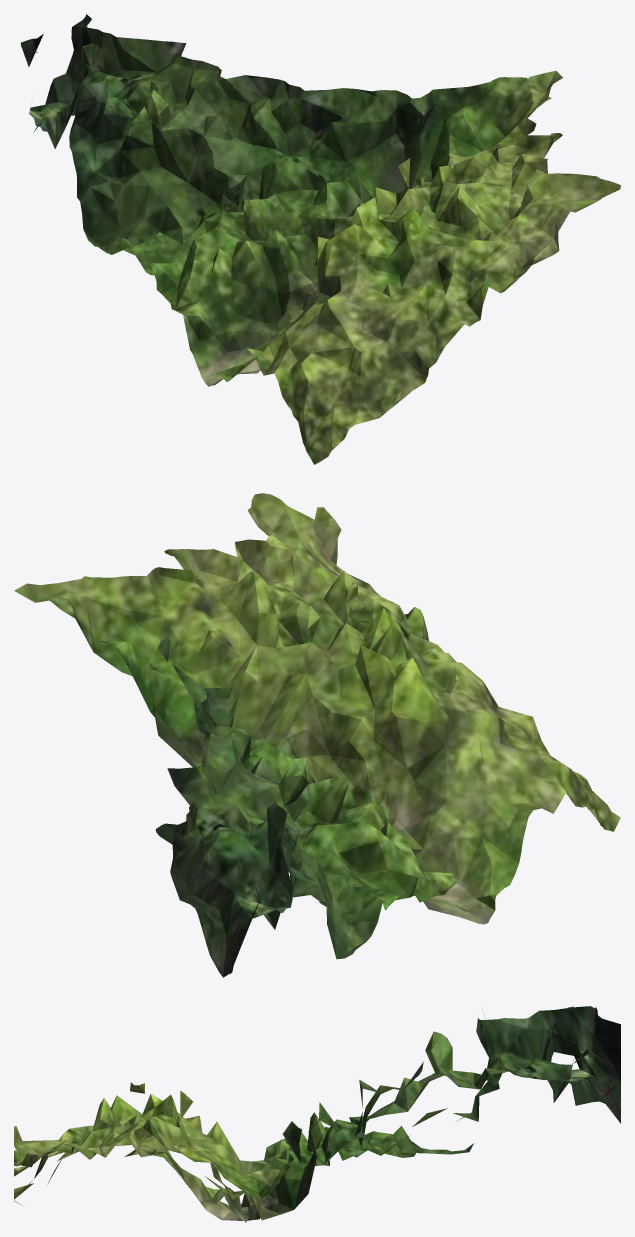
3 views of the same model, one above another, from view 1: azimuth 30°, elevation 25°; view 2: azimuth 150°, elevation 25°; view 3: azimuth 270°, elevation 25° (orthographic). The views are drawn at different scales.
Bounding box in the file's own units: 17.99 × 9.56 × 26.11.
Materials: 2 (2 with a texture image).
